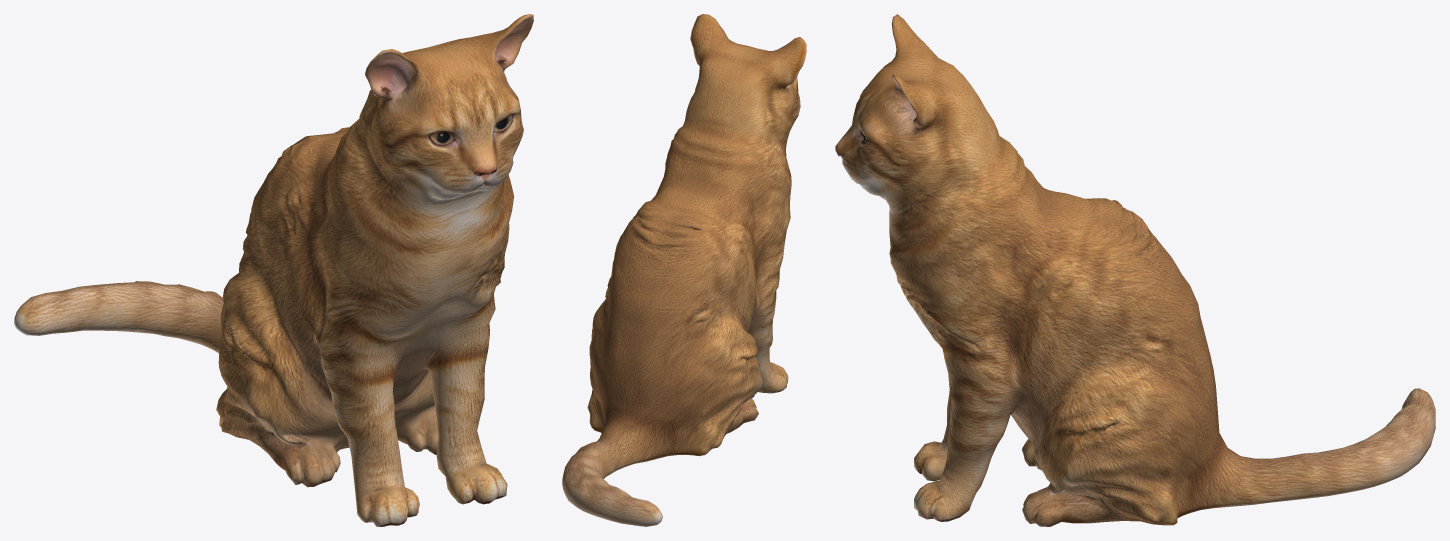
The model's file is cat_ginger.glb.
3 views of the same model, side by side, from view 1: azimuth 30°, elevation 25°; view 2: azimuth 150°, elevation 25°; view 3: azimuth 270°, elevation 25° (orthographic). The views are drawn at different scales.
Visible parts, largest first — view 1: tripo_node_137dc122-bbce-4c78-8c58-0d248; view 2: tripo_node_137dc122-bbce-4c78-8c58-0d248; view 3: tripo_node_137dc122-bbce-4c78-8c58-0d248.
Part boxes in pixels (x1,y1,x2,y2): tripo_node_137dc122-bbce-4c78-8c58-0d248: (14, 14, 533, 526); tripo_node_137dc122-bbce-4c78-8c58-0d248: (562, 14, 806, 526); tripo_node_137dc122-bbce-4c78-8c58-0d248: (835, 14, 1435, 526).
Size of the model in its own units: 0.4609 by 0.8184 by 0.998.
1 material, 1 textured.
